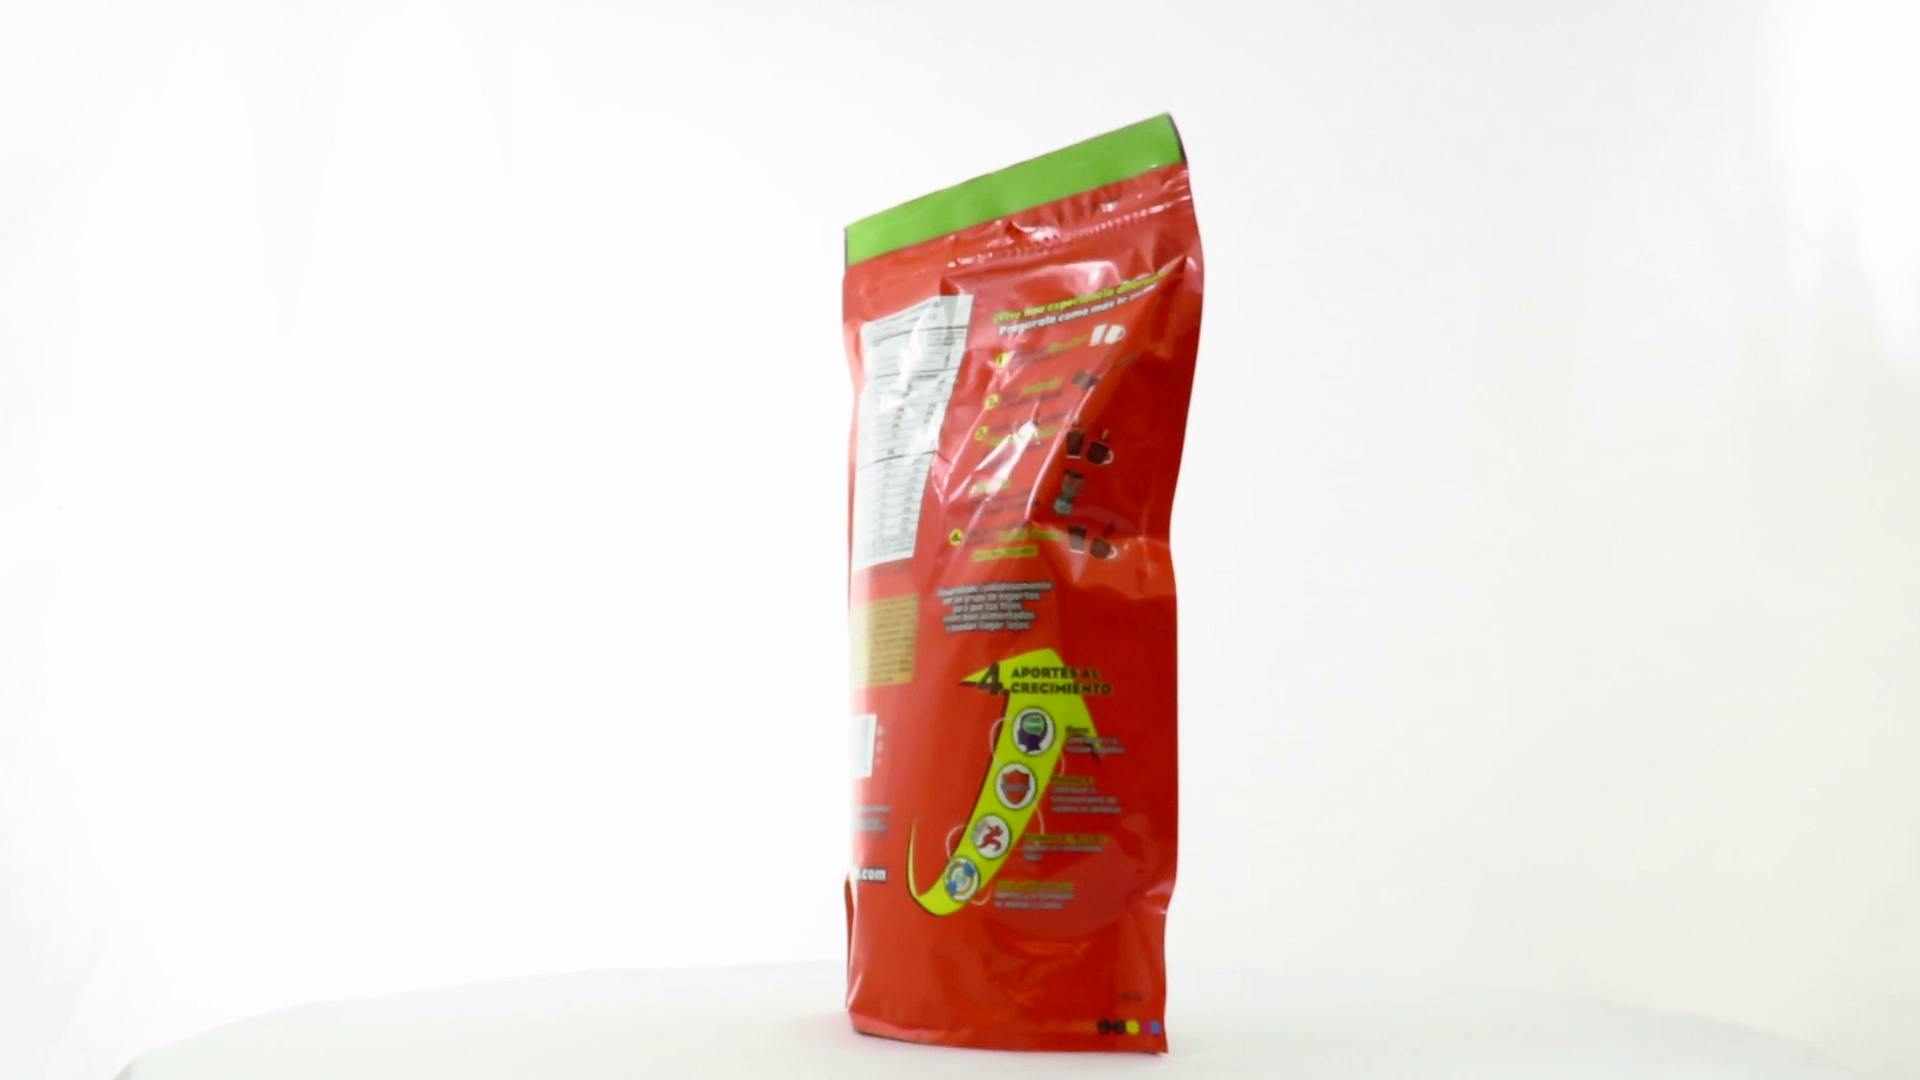COL0170102DYP50000: (837, 105, 1211, 1062)
